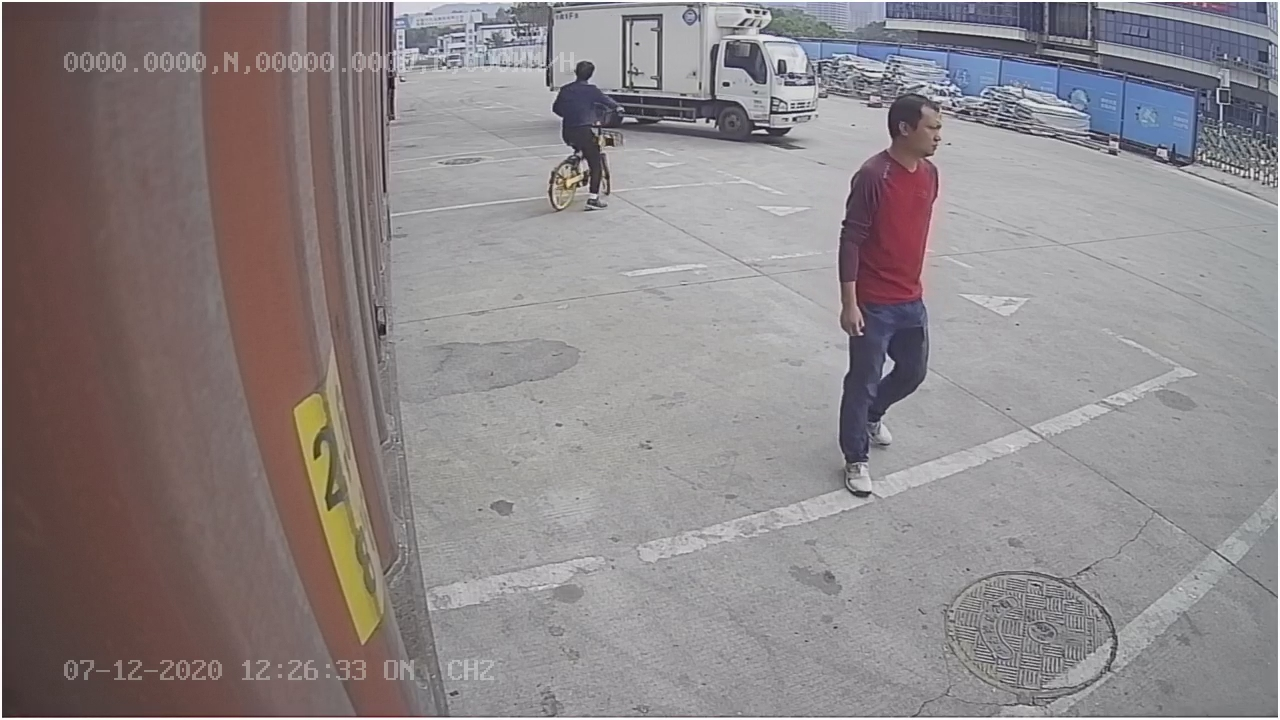person: (829, 89, 949, 502)
